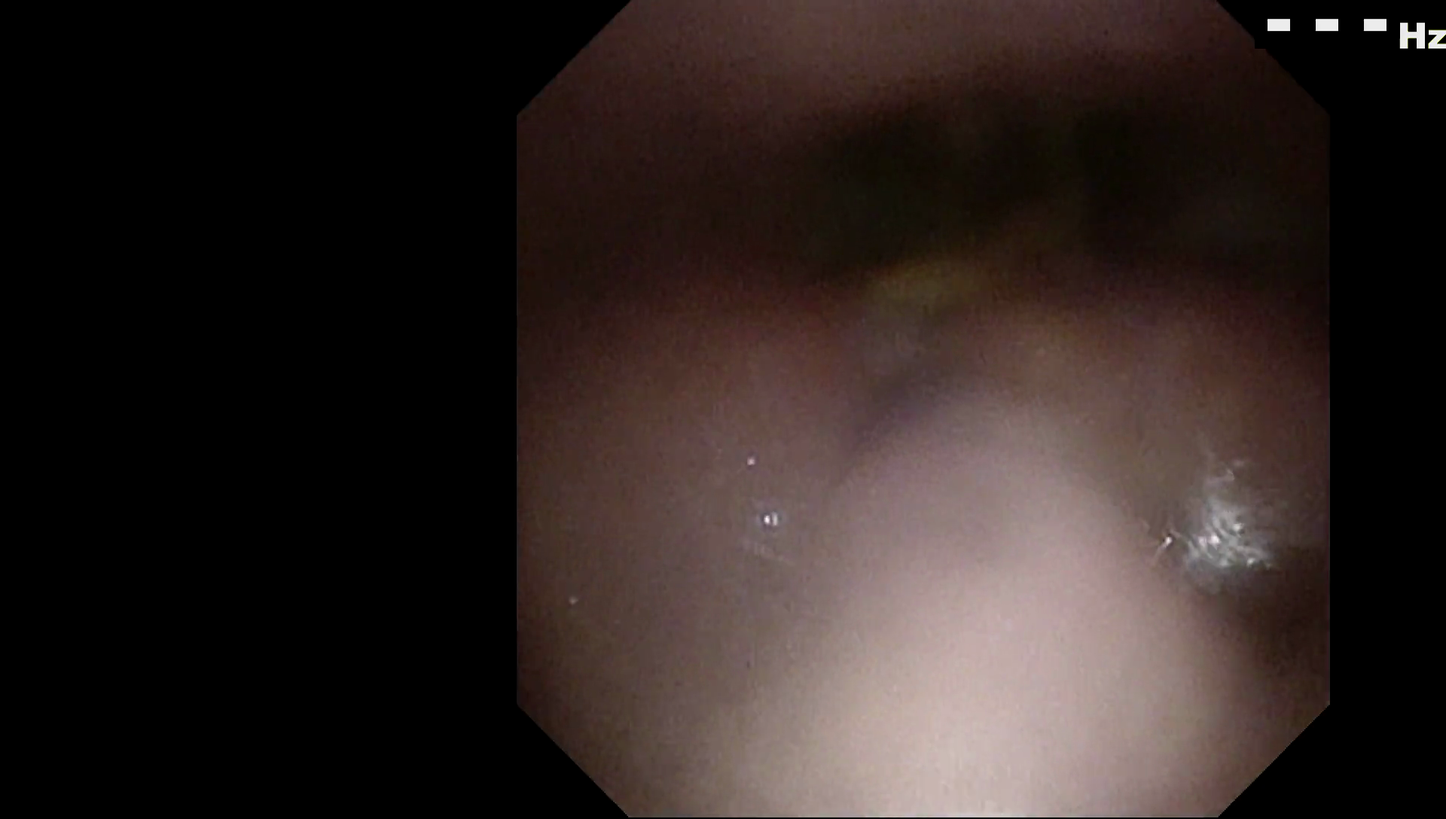close_wall: (675, 437, 1177, 819)
next: (781, 60, 1242, 296)
